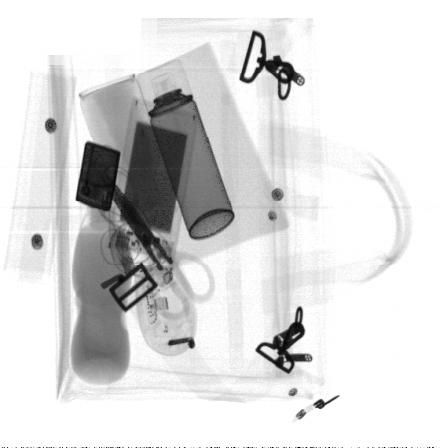Lighter: (71, 139, 124, 214)
Powerbank: (106, 92, 200, 288)
Scissors: (95, 169, 218, 322)
Sprayer: (133, 56, 235, 240)
